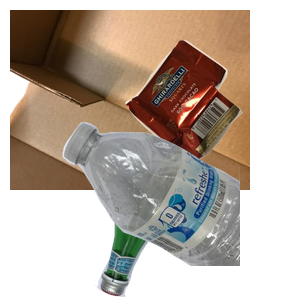cardboard: (10, 10, 250, 190)
glass: (93, 143, 284, 300)
plastic: (60, 120, 300, 300)
trash: (123, 37, 300, 192)
